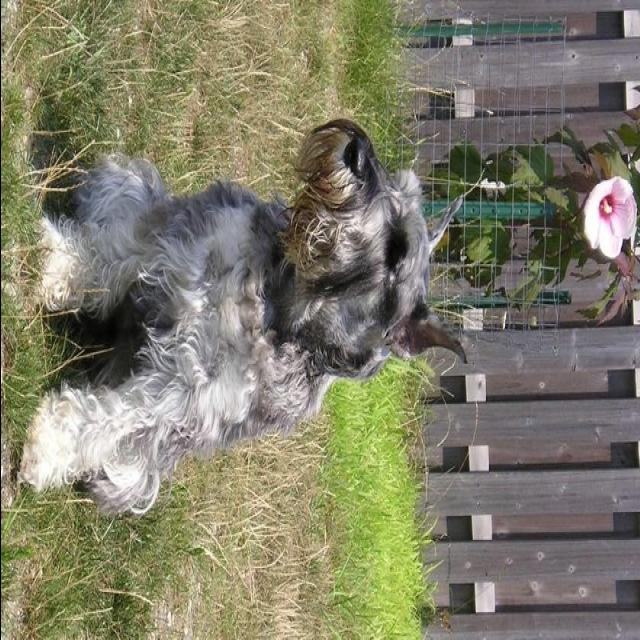standard_schnauzer: (16, 117, 467, 514)
